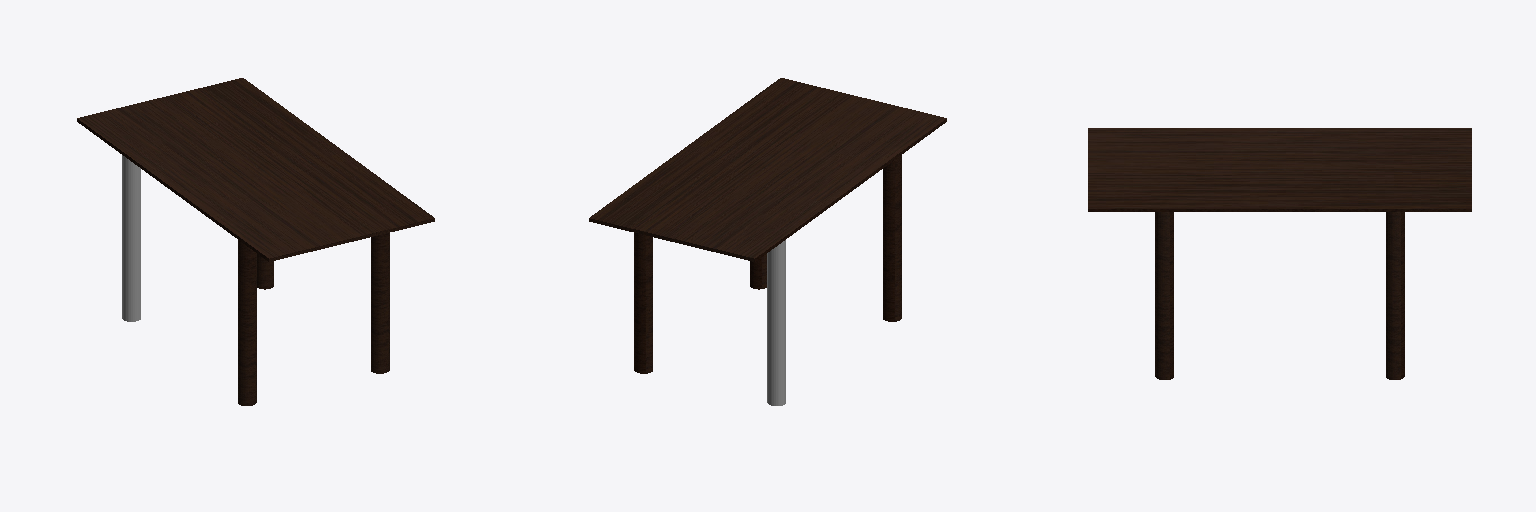
The picture shows the model from 3 angles: view 1: azimuth 30°, elevation 25°; view 2: azimuth 150°, elevation 25°; view 3: azimuth 270°, elevation 25°; orthographic projection.
Visible parts, largest first — view 1: Cube_Cube.005, Cylinder.001, Cylinder, Cylinder.003; view 2: Cube_Cube.005, Cylinder, Cylinder.001, Cylinder.002; view 3: Cube_Cube.005, Cylinder.002, Cylinder.003.
Boxes of the visible parts, <box> form: Cube_Cube.005: <box>77,78,434,261</box>; Cylinder.001: <box>122,155,140,321</box>; Cylinder: <box>238,240,256,405</box>; Cylinder.003: <box>371,233,389,373</box>; Cube_Cube.005: <box>589,78,946,261</box>; Cylinder: <box>883,155,901,321</box>; Cylinder.001: <box>767,240,785,405</box>; Cylinder.002: <box>634,233,652,373</box>; Cube_Cube.005: <box>1088,128,1471,211</box>; Cylinder.002: <box>1386,212,1404,379</box>; Cylinder.003: <box>1155,212,1173,379</box>.
Bounding box in the file's own units: 5 × 5.05 × 10.
Materials: 2 (1 with a texture image).